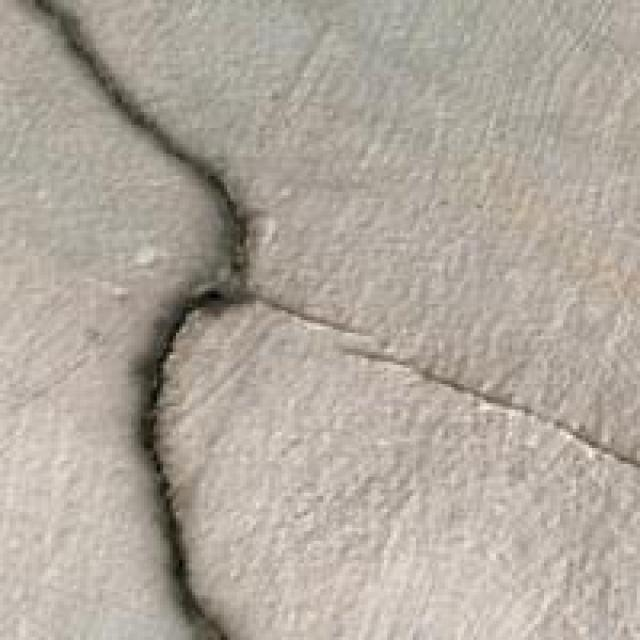Crack: (16, 3, 403, 637)
